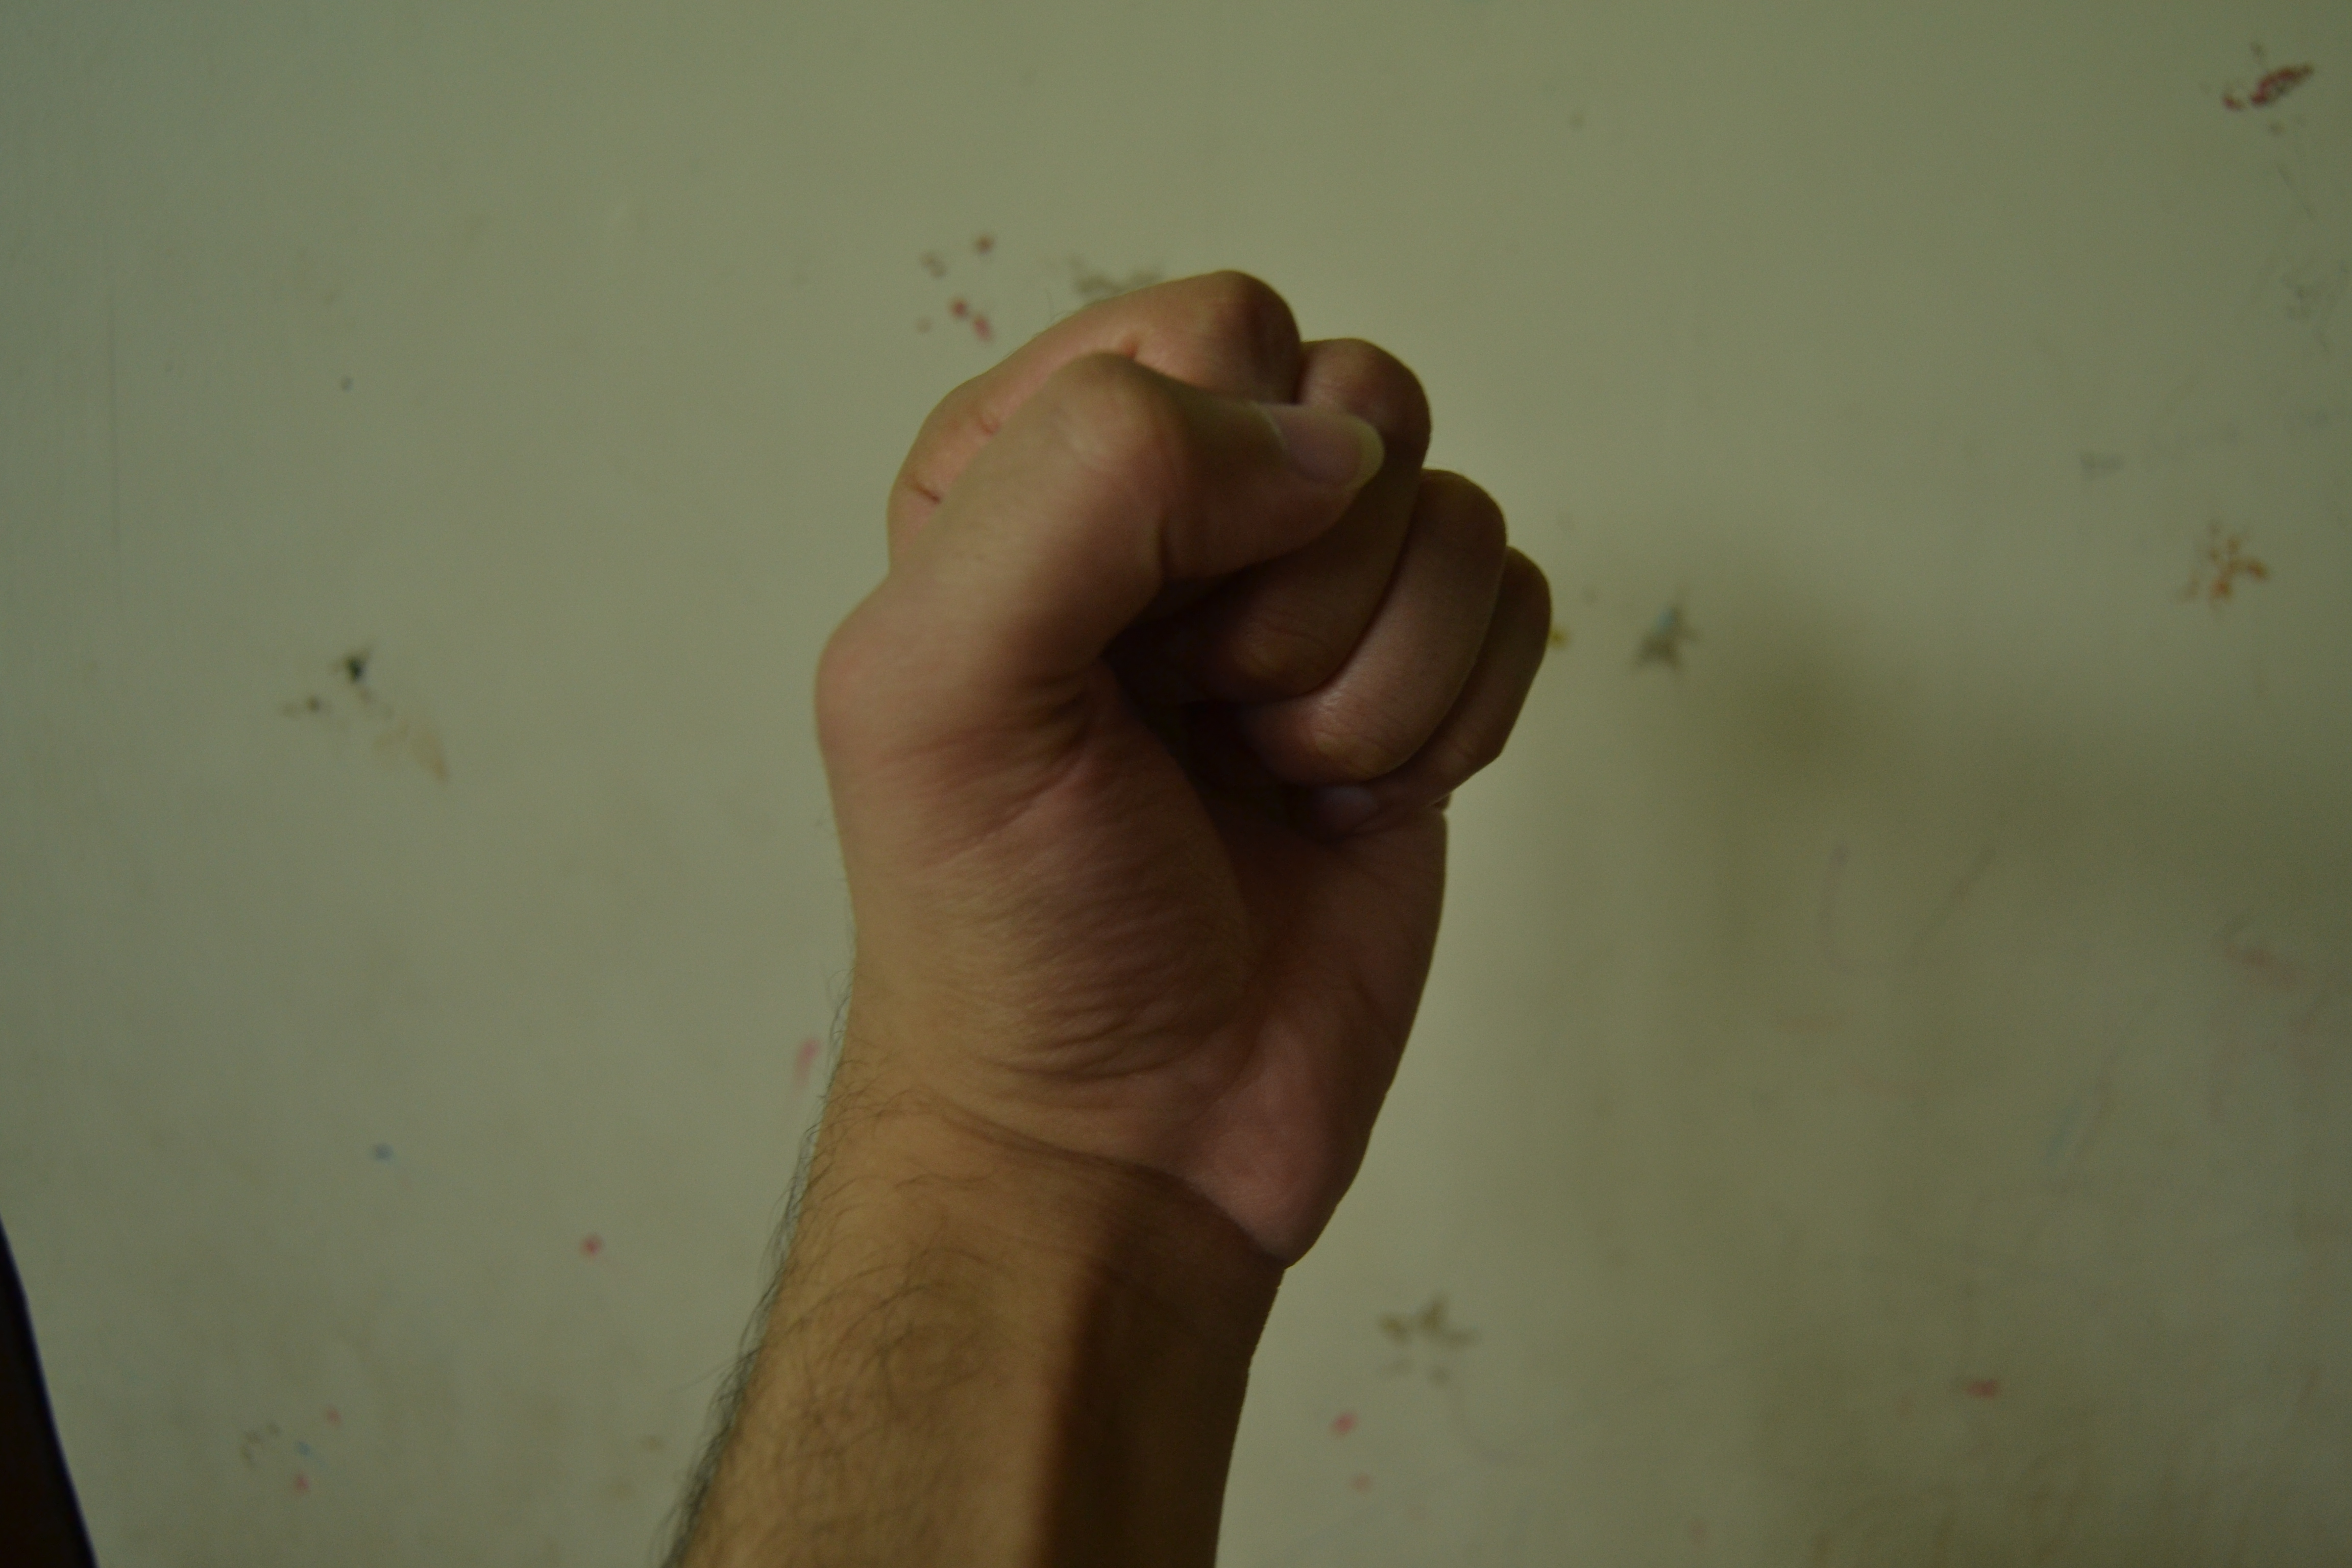click: (819, 201, 1619, 1409)
